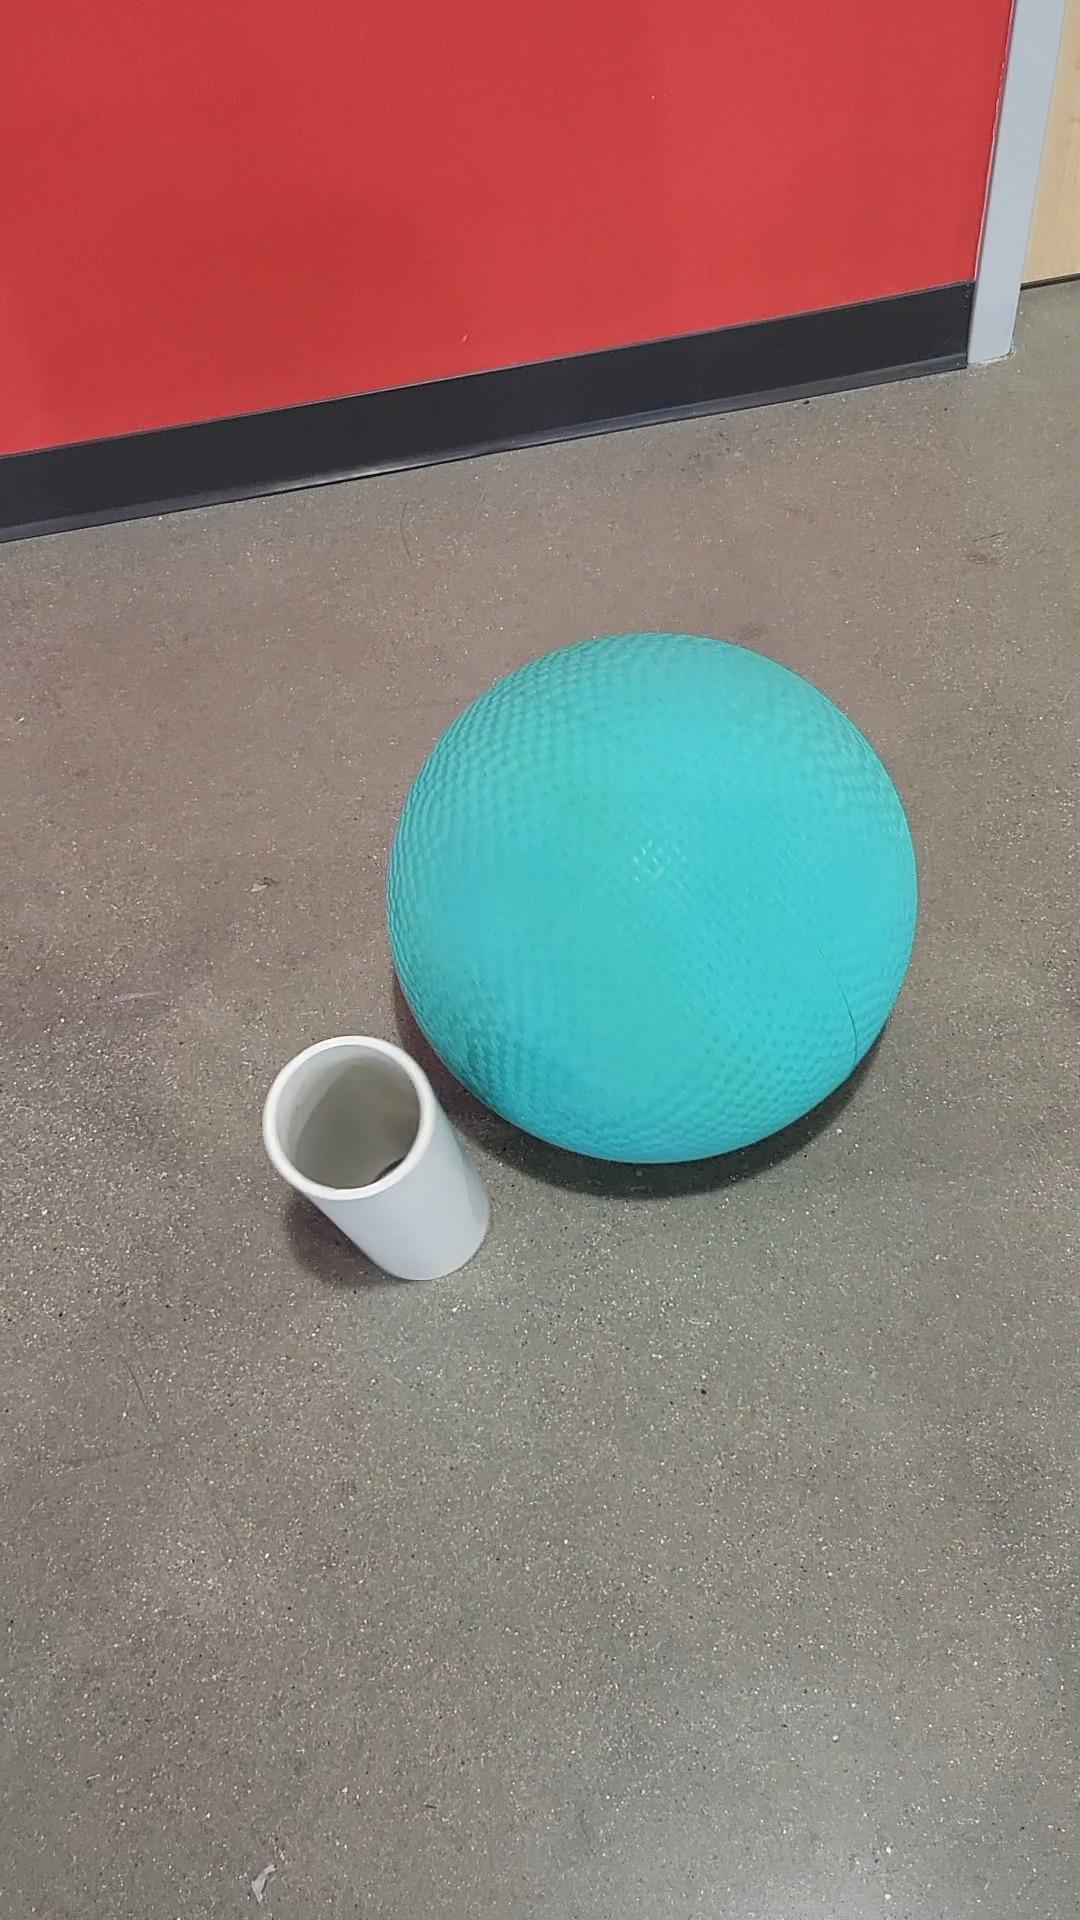algae: (384, 618, 930, 1172)
coral: (262, 1033, 493, 1279)
